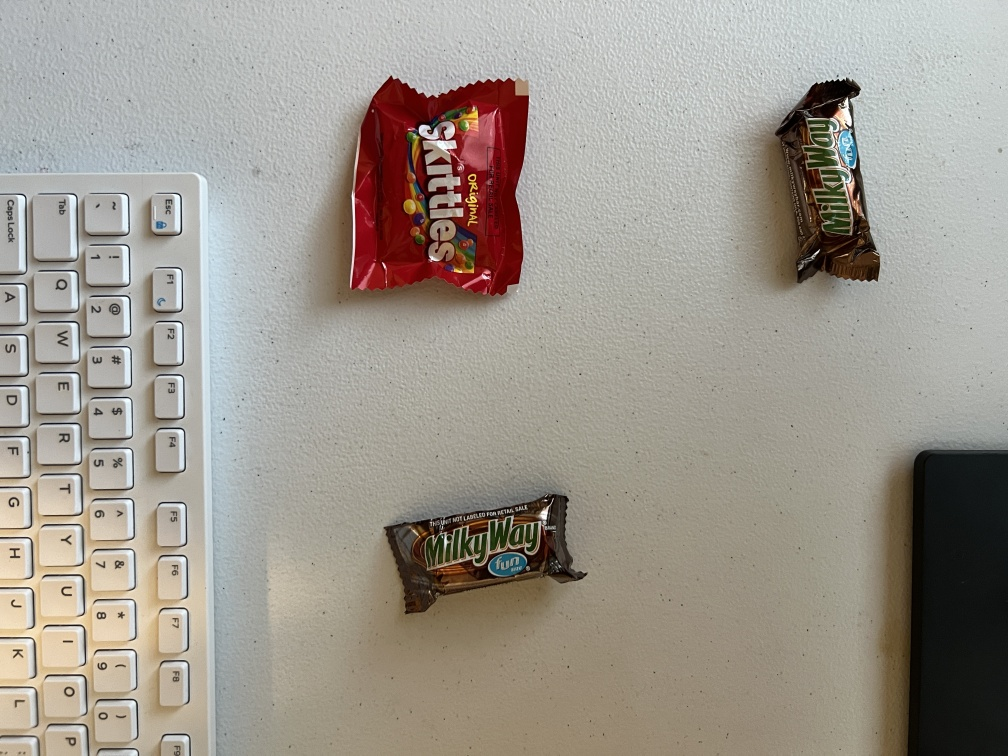milky_way: (764, 73, 901, 299), (361, 495, 602, 623)
skittles: (342, 56, 544, 315)
